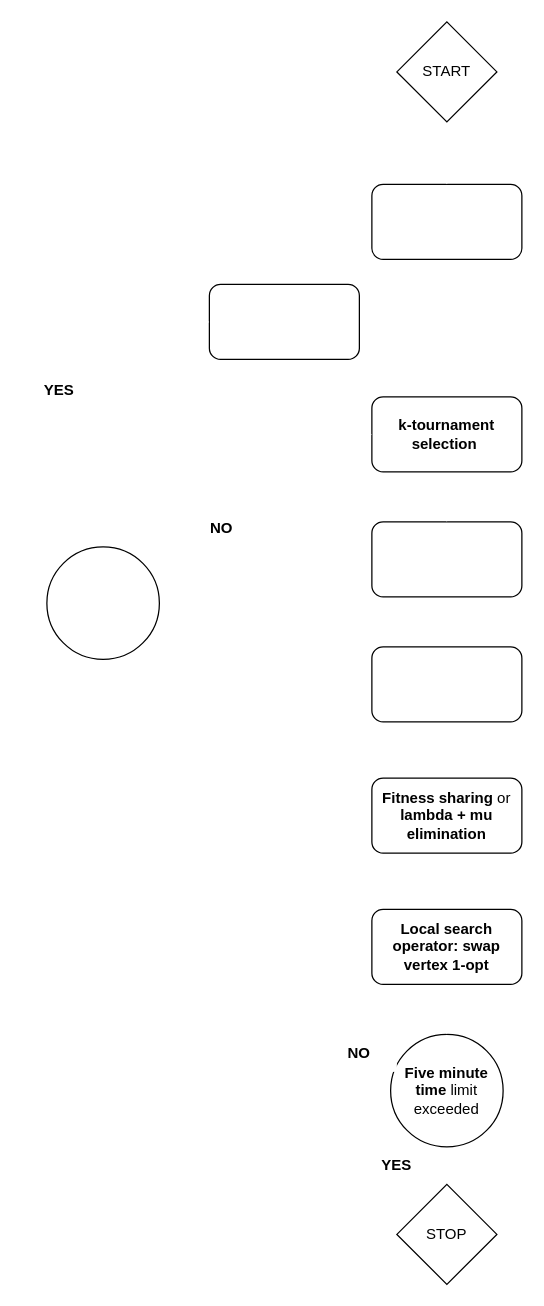
The diagram is 544 pixels wide and 1306 high, and some of its shapes have lost their labels. Each missing label, with the centre of its shape:
Inversion, random swap or adjacent swap mutation: (x=446, y=684)
Is the algorithm stuck in local minima ?: (x=102, y=602)
k-tournament initialization for the whole population: (x=446, y=221)
Order crossover recombination with two parents: (x=446, y=559)
Seed population mutation for all the inidividuals except the best one: (x=283, y=321)
